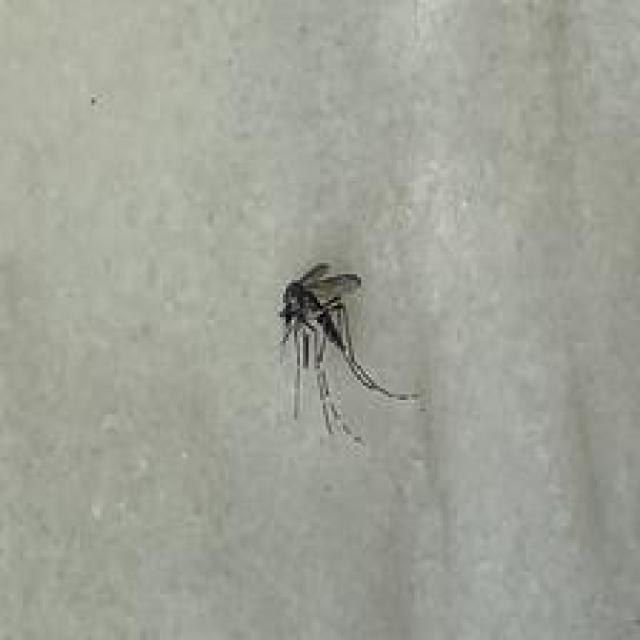Aedes albopictus: (274, 260, 426, 446)
